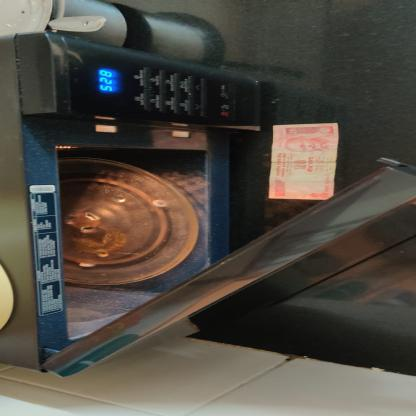Old20Front: (268, 122, 338, 200)
